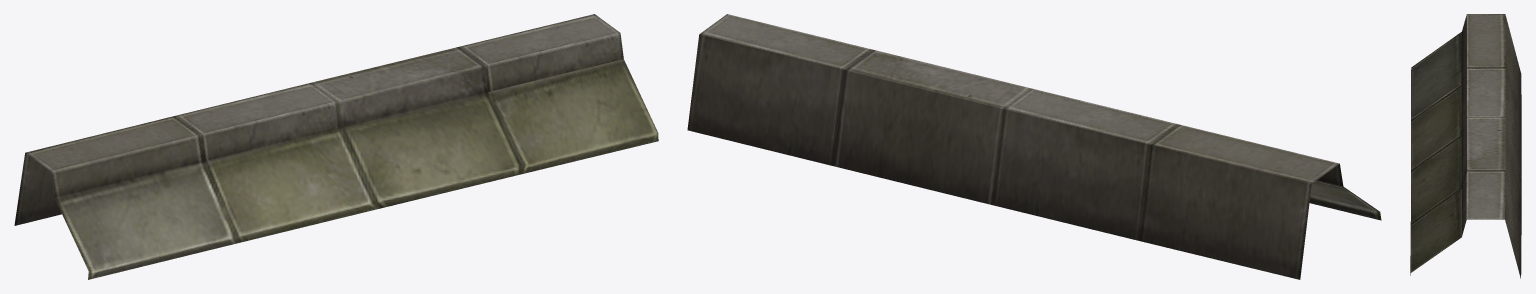
File: H_Ferry04.FBX
3 views of the same model, side by side, from view 1: azimuth 30°, elevation 25°; view 2: azimuth 150°, elevation 25°; view 3: azimuth 270°, elevation 25° (orthographic). The views are drawn at different scales.
Visible parts, largest first — view 1: H_Ferry04; view 2: H_Ferry04; view 3: H_Ferry04.
Part boxes in pixels (left/top/right/bottom): H_Ferry04: left=14, top=14, right=658, bottom=279; H_Ferry04: left=687, top=14, right=1381, bottom=279; H_Ferry04: left=1410, top=14, right=1521, bottom=278.
Size of the model in its own units: 608 by 82.67 by 139.
